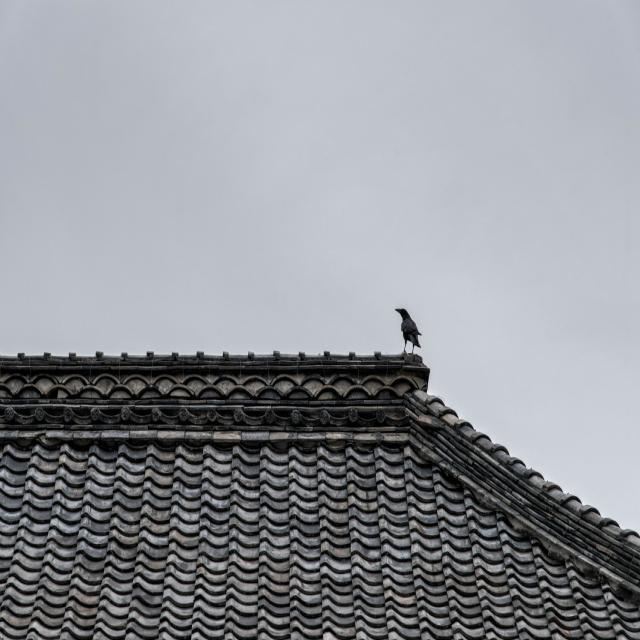bird: (394, 306, 424, 356)
